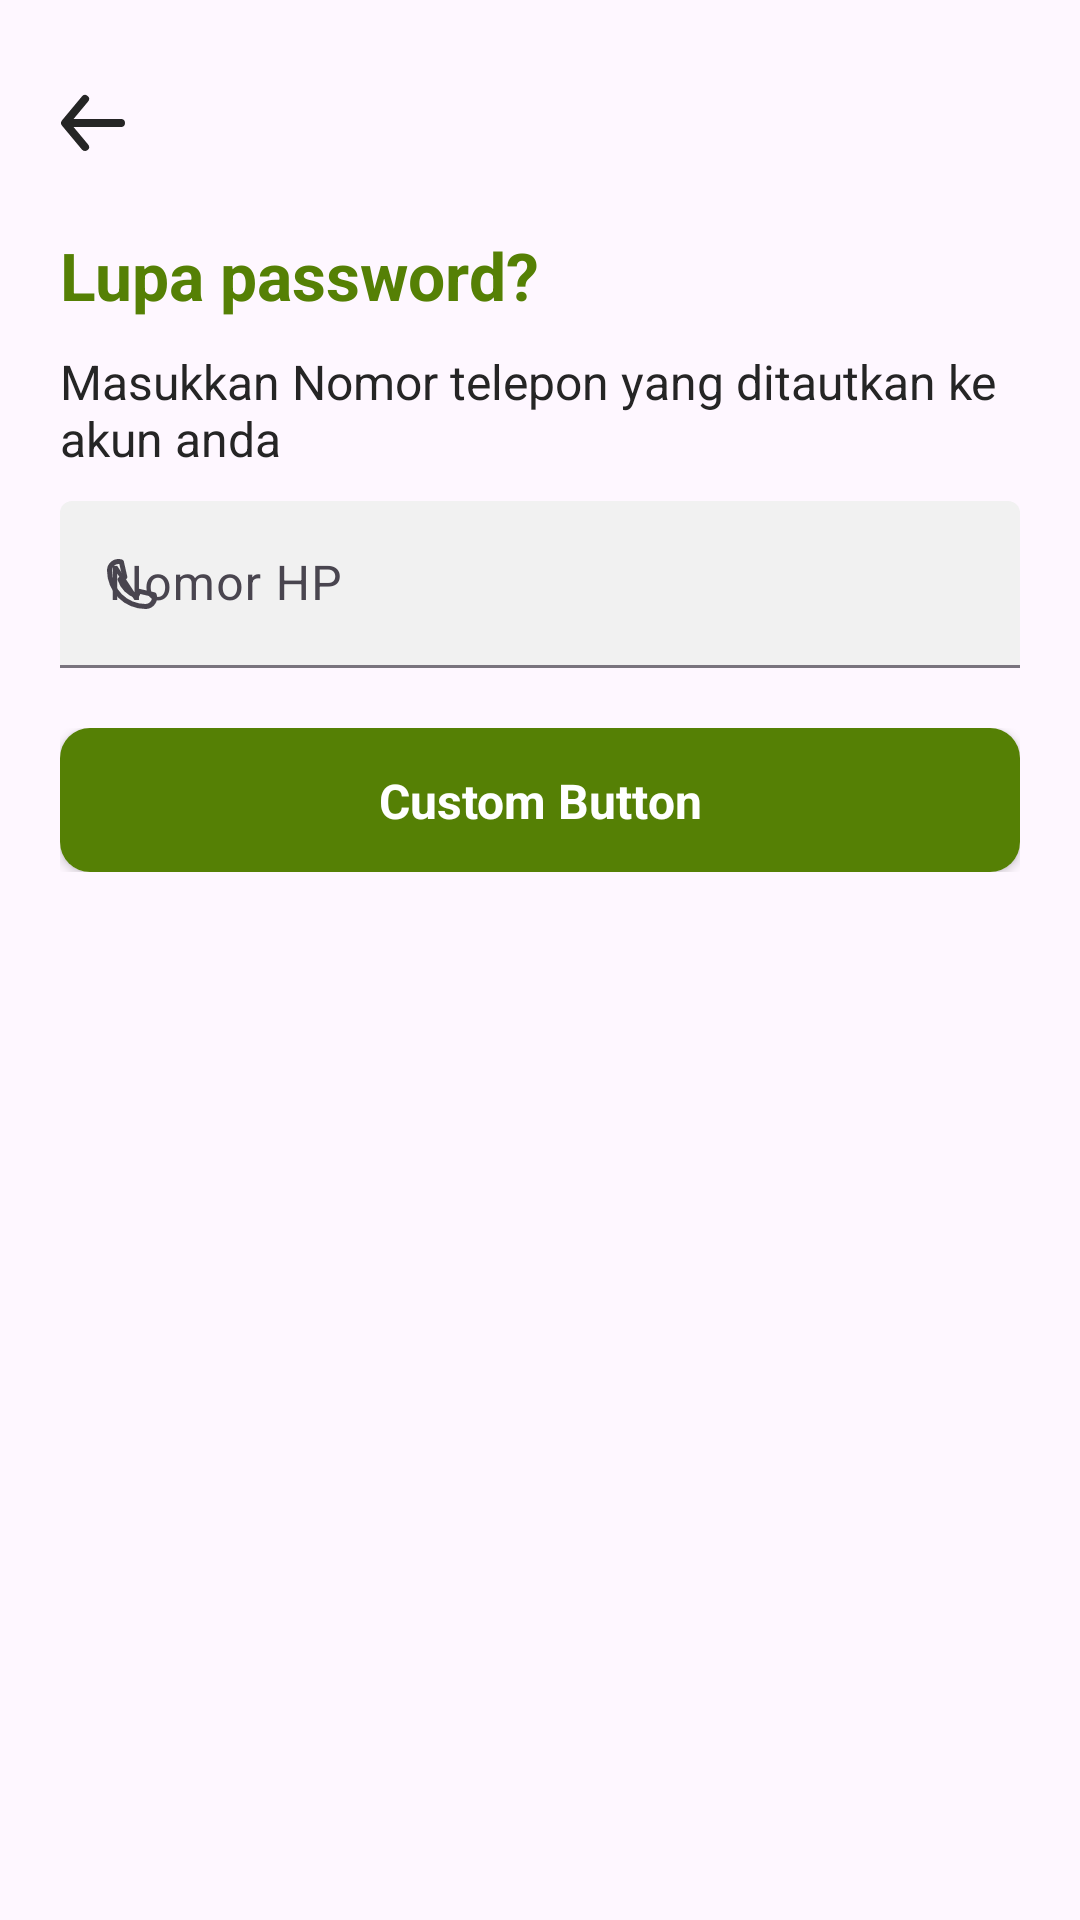

Named icons in this screenshot (1080px×1920px) and their bounding boxes, bbox(x1, y1, x2, y2):
back: bbox(61, 94, 125, 151)
